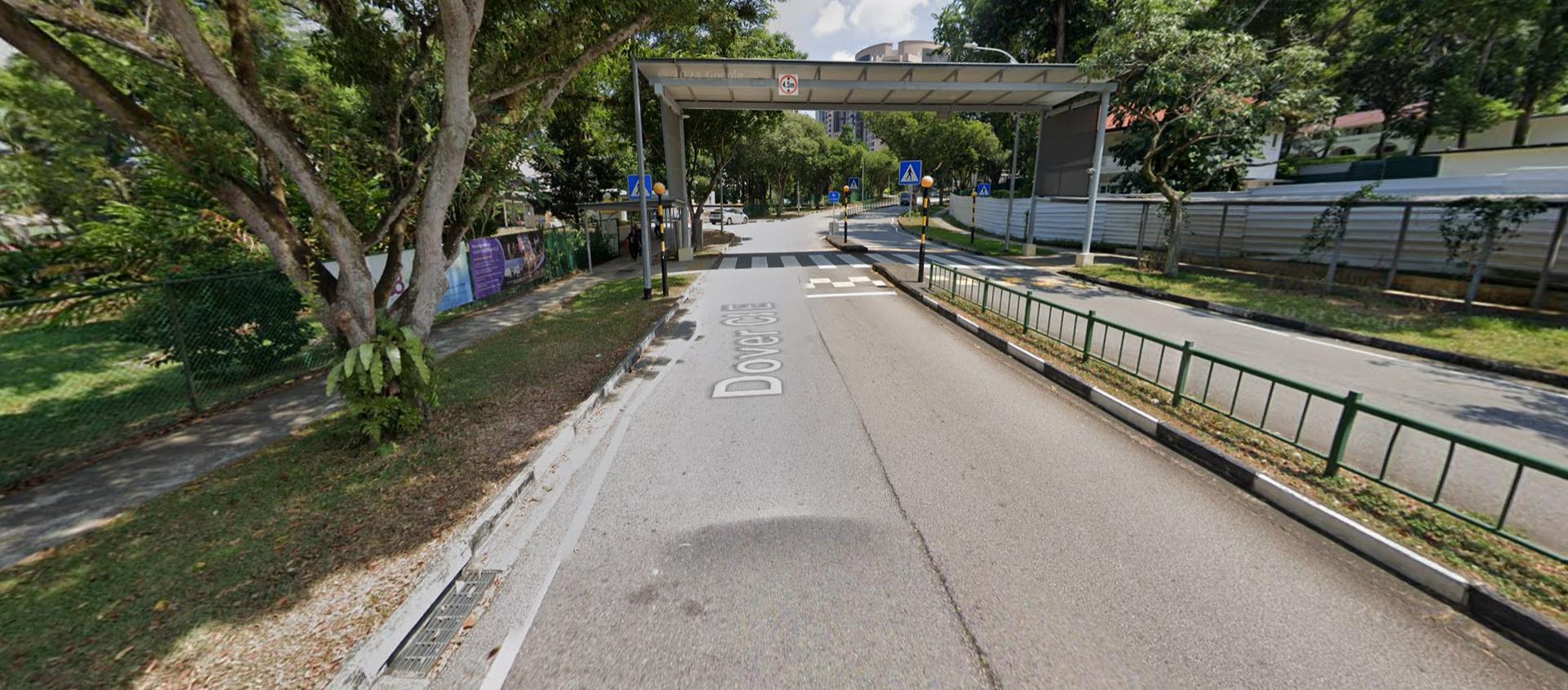normal: (389, 571, 501, 676)
